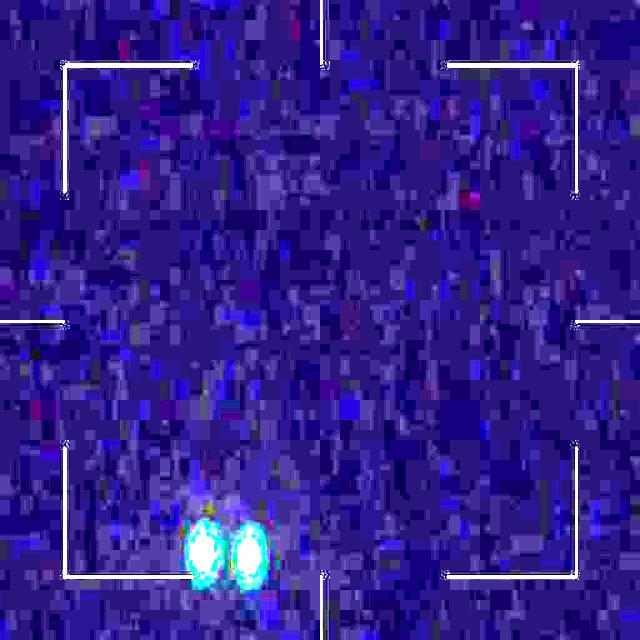bird: (190, 525, 262, 581)
